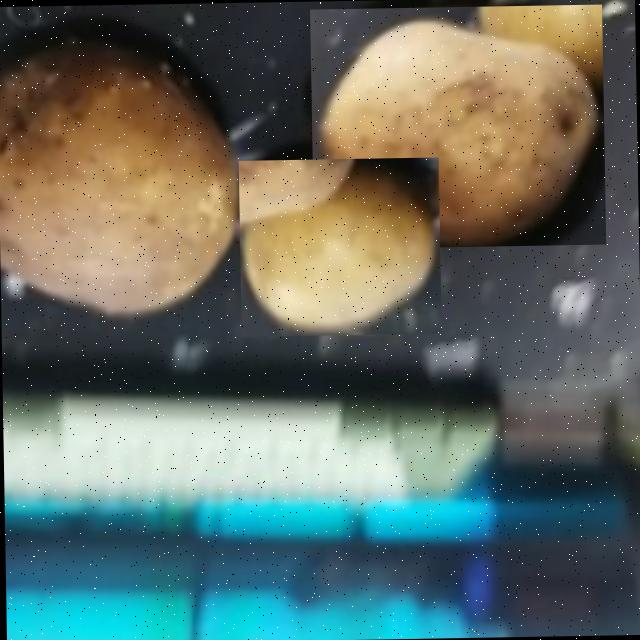Damaged potato: (308, 3, 604, 248), (0, 33, 247, 323)
Potato: (237, 156, 440, 335)
